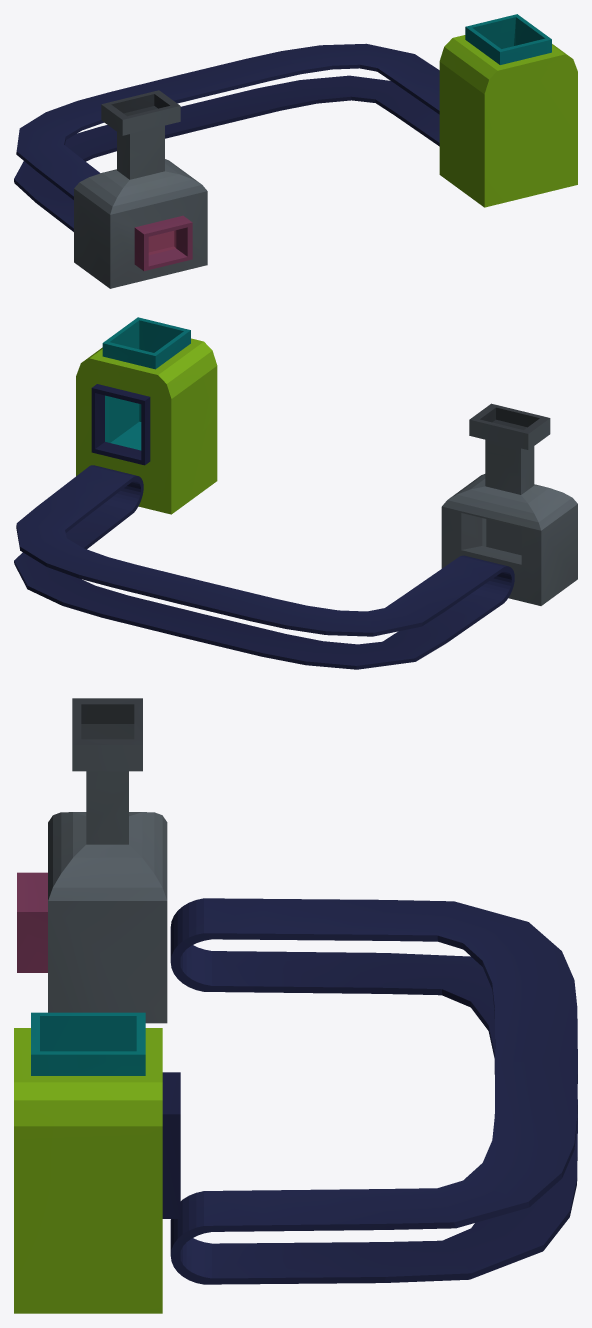
Rendered from recycleMech.fbx.
3 renders of one model, top to bottom at view 1: azimuth 30°, elevation 25°; view 2: azimuth 150°, elevation 25°; view 3: azimuth 270°, elevation 25°, orthographic. The views are drawn at different scales.
Parts seen in each view (by area): view 1: Circle, Cube, Cube.001; view 2: Circle, Cube, Cube.001; view 3: Circle, Cube, Cube.001.
Part boxes in pixels (<box>): Circle: <box>14,43,439,231</box>; Cube: <box>439,14,577,207</box>; Cube.001: <box>74,90,207,288</box>; Circle: <box>14,465,514,669</box>; Cube: <box>76,317,217,514</box>; Cube.001: <box>441,403,577,605</box>; Circle: <box>170,898,577,1284</box>; Cube: <box>14,1012,180,1313</box>; Cube.001: <box>17,698,167,1023</box>.
Bounding box in the file's own units: 2114 × 701 × 1366.
Materials: 1 (1 with a texture image).
